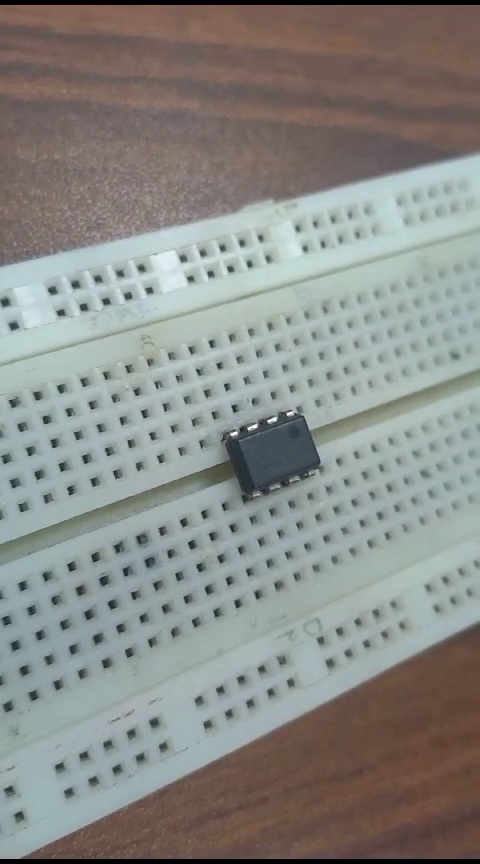IC: (214, 399, 331, 505)
